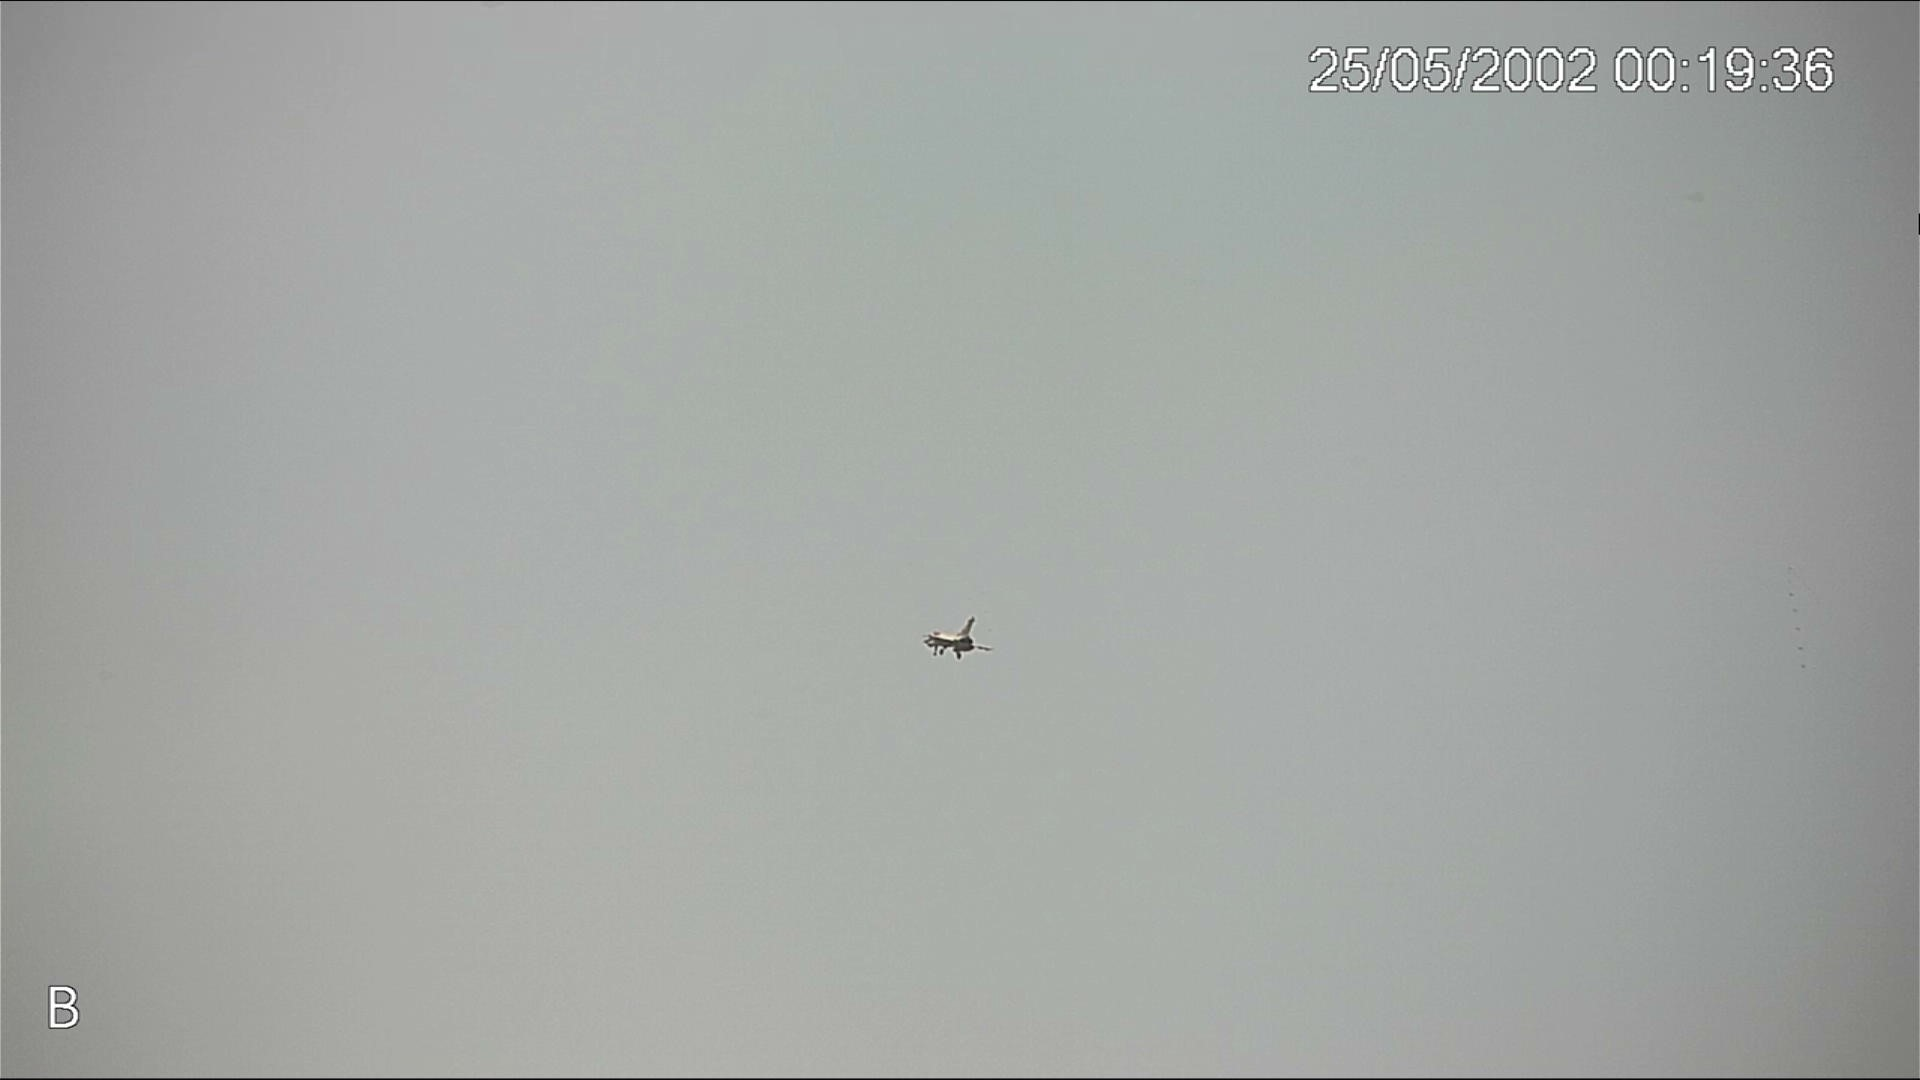SU_30: (916, 615, 996, 665)
